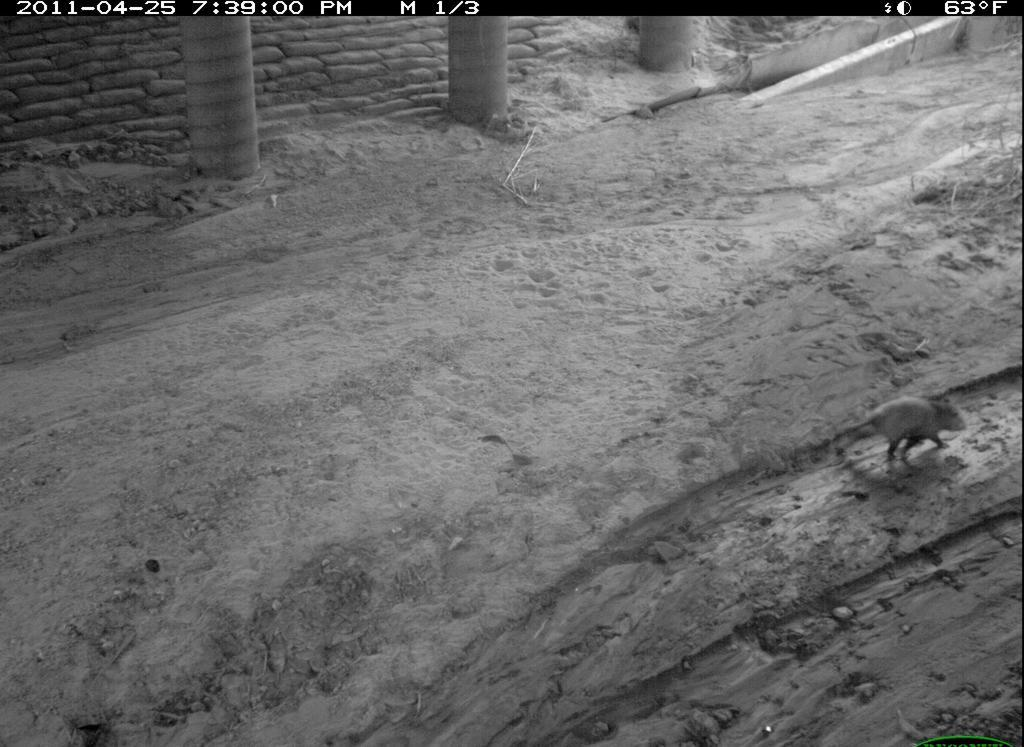opossum: (838, 378, 980, 478)
